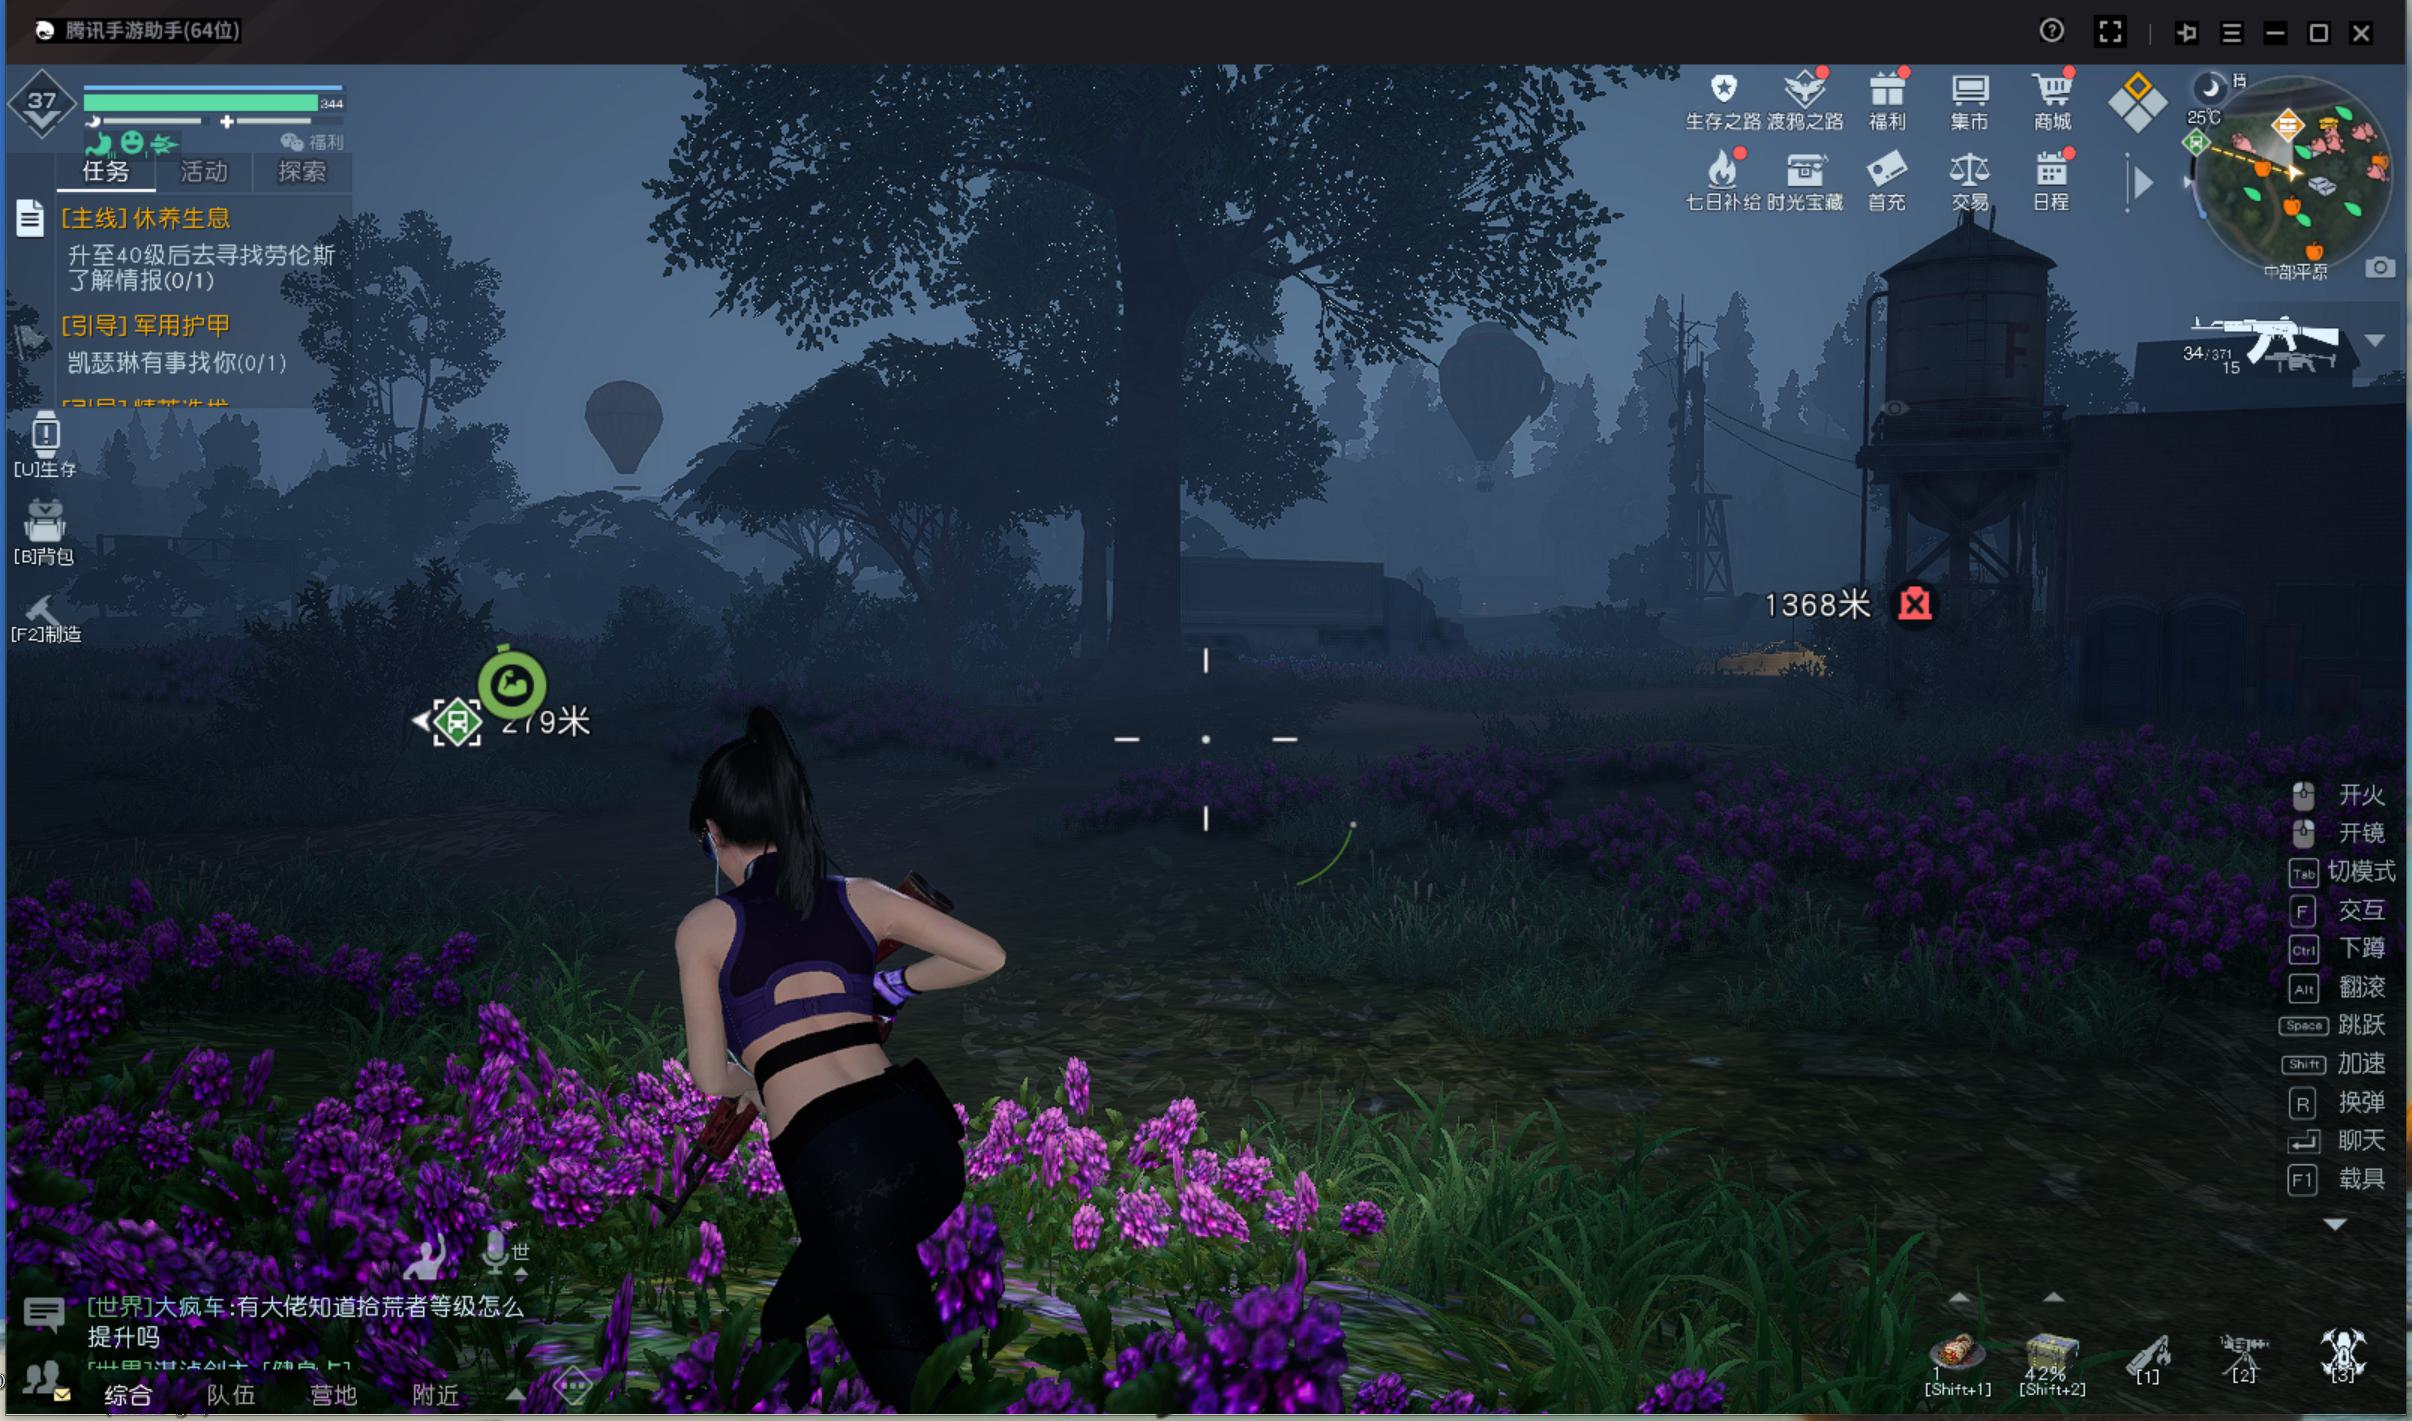tree: (1115, 315, 1194, 678), (1074, 491, 1111, 656)
